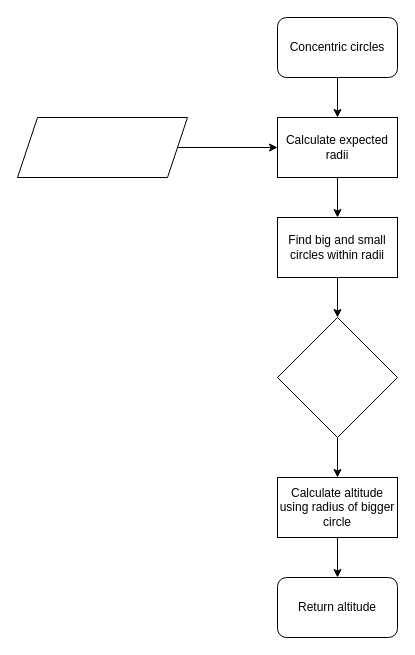
Some shapes in this 415 by 655 pixel diagram are drawn without their labels. Here are the shapes that lost their labels. From the top down, the centre of each, then its label:
At (102,147): "Parameters: Thresholds, big_circle/small_circle tolerance".
At (337,377): "Check if pair on concentric circles exists".
